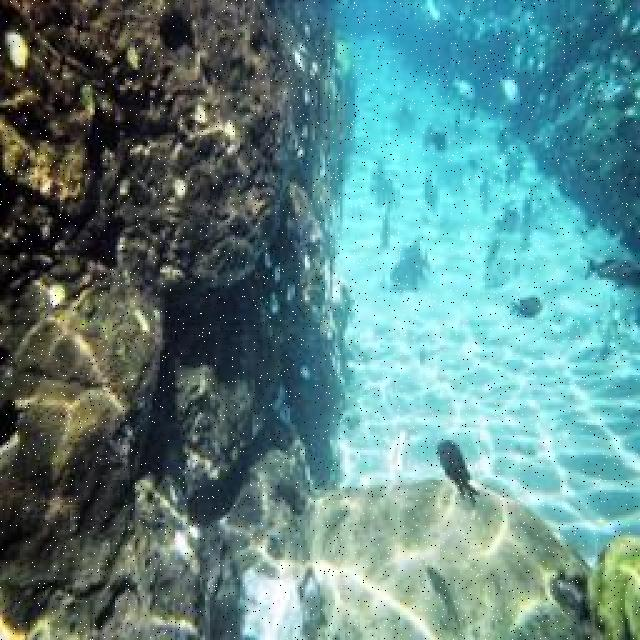fish: (436, 439, 483, 508), (508, 296, 543, 316)
sea-floor: (0, 2, 600, 637)
